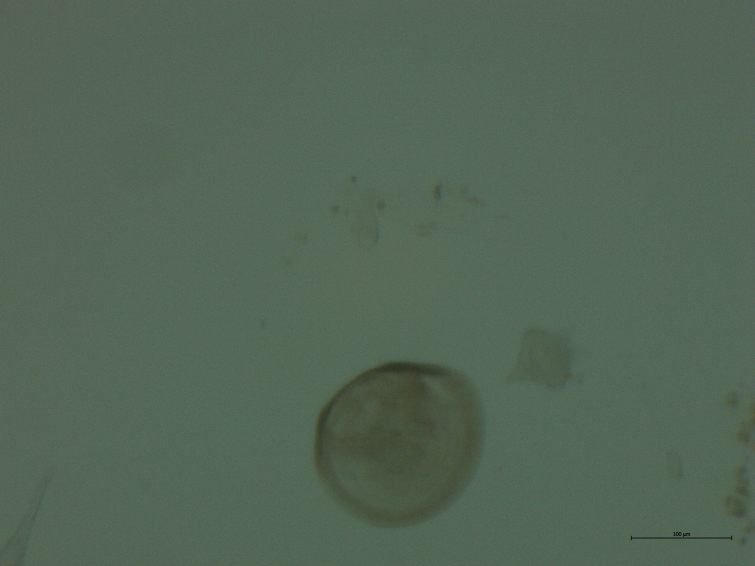oyster: (301, 351, 500, 531)
